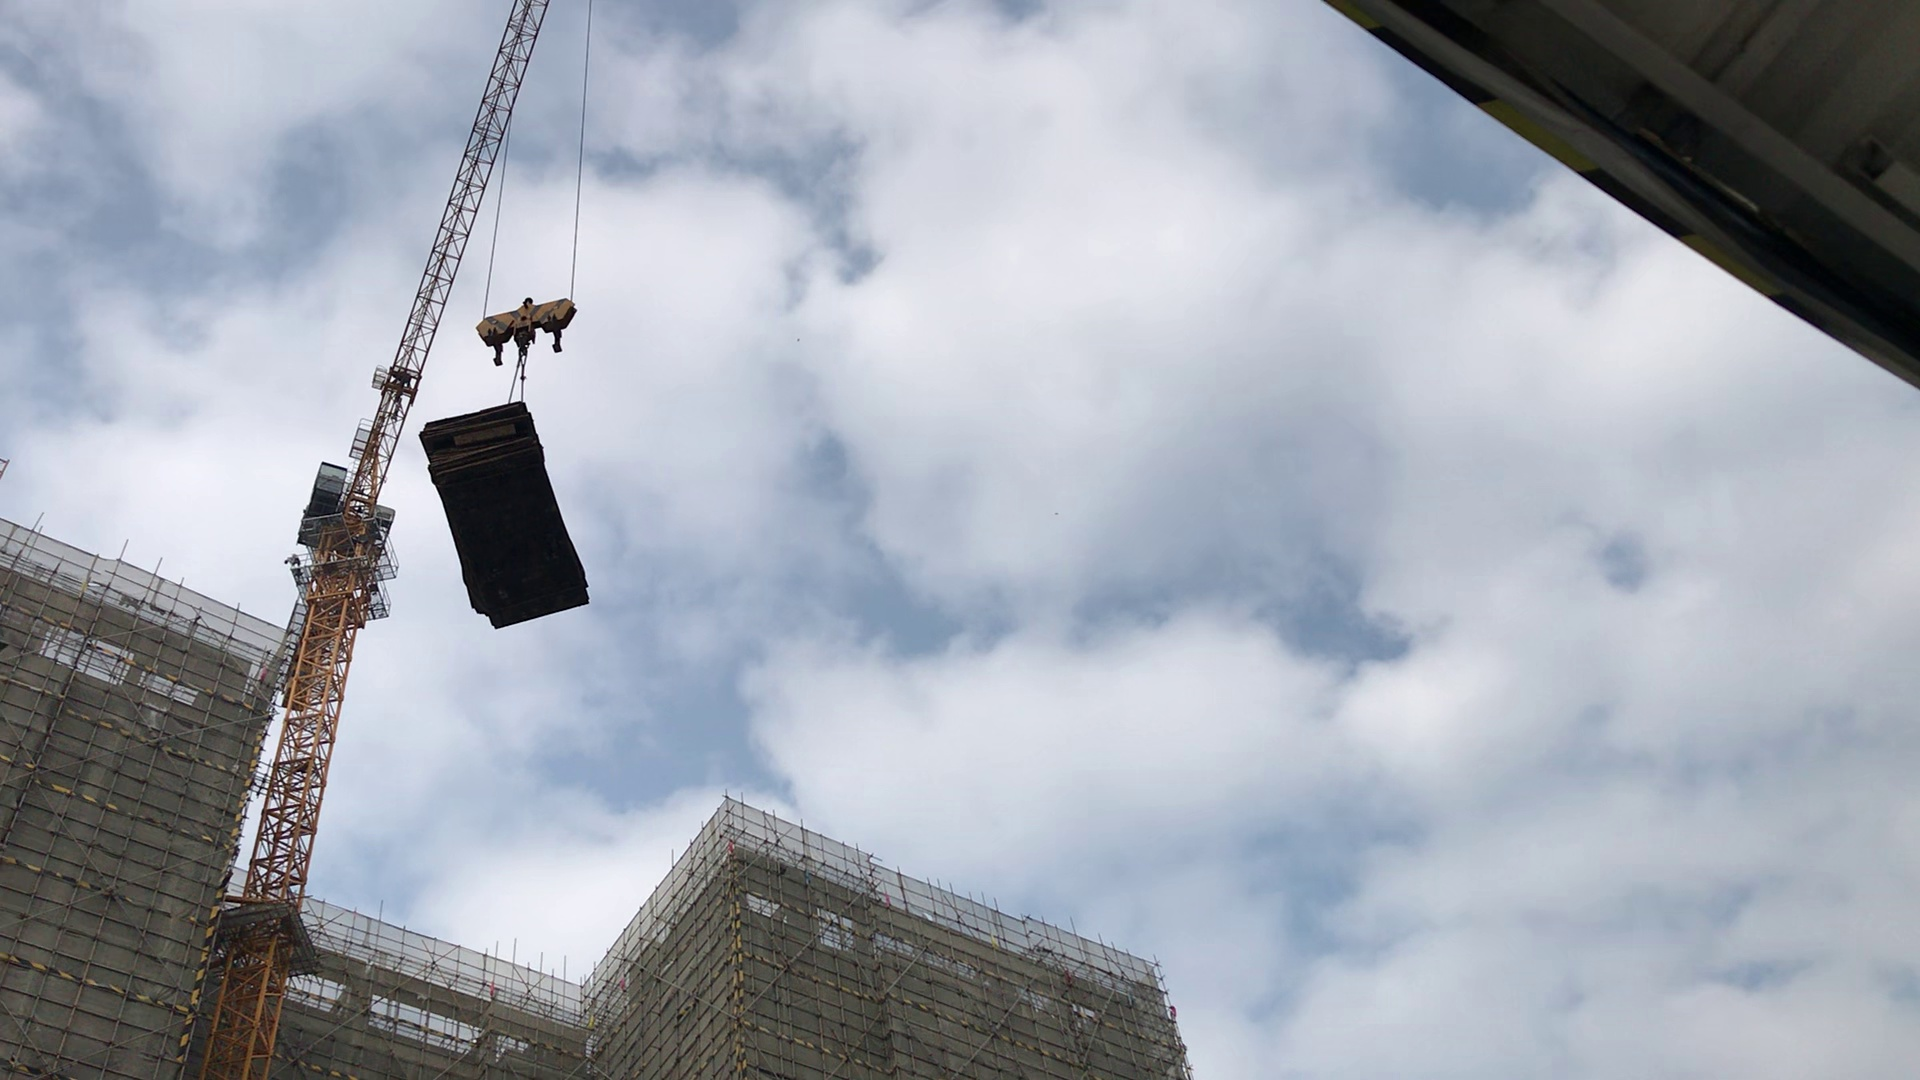board: (419, 402, 593, 632)
hook: (475, 297, 576, 364)
